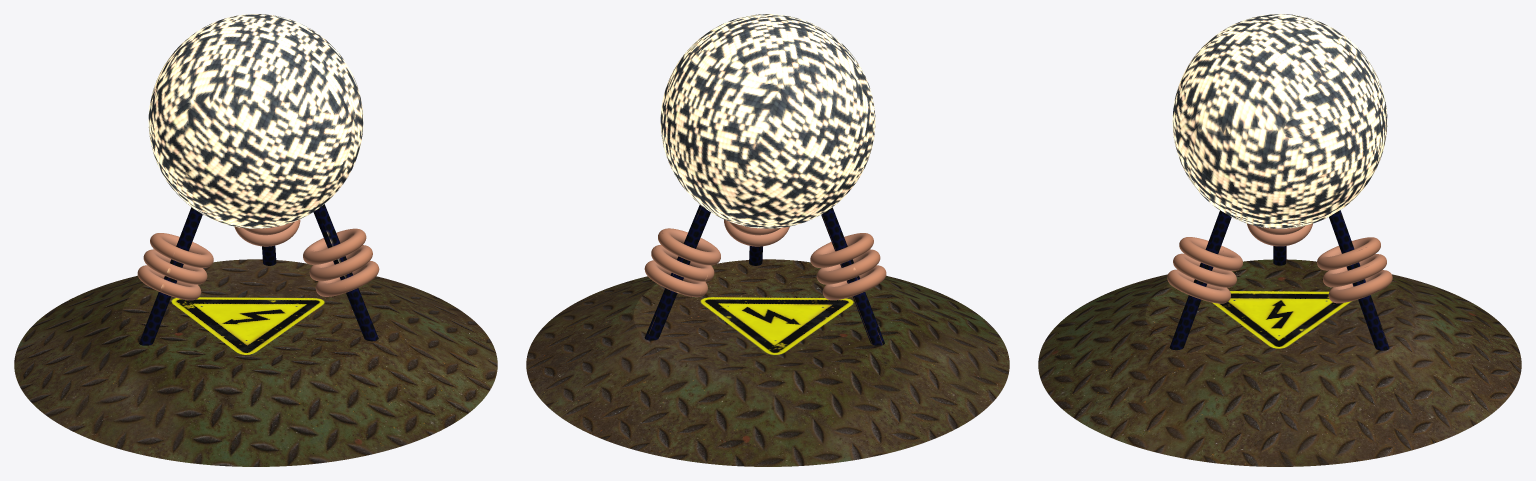
Rendered from gener.fbx.
3 renders of one model, left to right at view 1: azimuth 30°, elevation 25°; view 2: azimuth 150°, elevation 25°; view 3: azimuth 270°, elevation 25°, orthographic.
Parts seen in each view (by area): view 1: stożek, Kula, Noga3, Noga1, Noga2, Cewka1, Cewka2, Cewka3; view 2: stożek, Kula, Noga2, Noga1, Noga3, Cewka1, Cewka2, Cewka3; view 3: stożek, Kula, Noga3, Noga2, Cewka3.
Boxes of the visible parts, <box> form: stożek: <box>14,259,497,466</box>; Kula: <box>148,14,363,228</box>; Noga3: <box>303,204,379,341</box>; Noga1: <box>139,207,202,345</box>; Noga2: <box>234,219,300,265</box>; Cewka1: <box>150,233,213,267</box>; Cewka2: <box>143,249,207,284</box>; Cewka3: <box>137,265,201,300</box>; stożek: <box>526,259,1009,466</box>; Kula: <box>660,14,875,228</box>; Noga2: <box>644,205,720,340</box>; Noga1: <box>821,207,884,345</box>; Noga3: <box>724,219,789,265</box>; Cewka1: <box>810,233,873,267</box>; Cewka2: <box>816,249,880,284</box>; Cewka3: <box>822,265,886,300</box>; stożek: <box>1038,259,1521,466</box>; Kula: <box>1172,14,1387,228</box>; Noga3: <box>1167,210,1242,350</box>; Noga2: <box>1317,210,1392,350</box>; Cewka3: <box>1247,223,1312,246</box>.
Size of the model in its own units: 360 by 280 by 360.
1 material, 1 textured.
